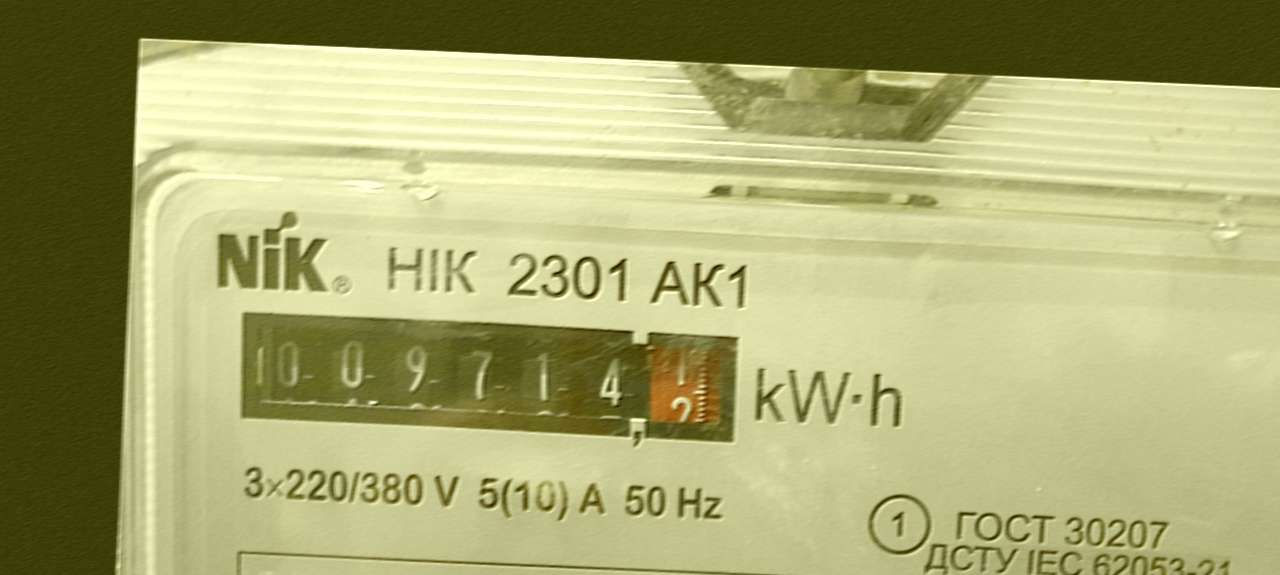0: (272, 337, 304, 391), (337, 336, 366, 391)
1: (531, 348, 556, 404), (673, 345, 689, 388)
2: (668, 393, 693, 424)
4: (595, 354, 626, 410)
7: (466, 348, 494, 402)
9: (399, 342, 430, 395)
screen: (222, 296, 756, 462)
